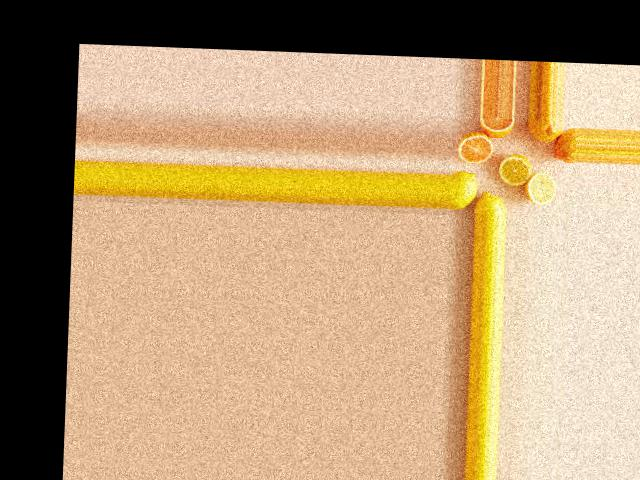lemon: (548, 124, 576, 165)
